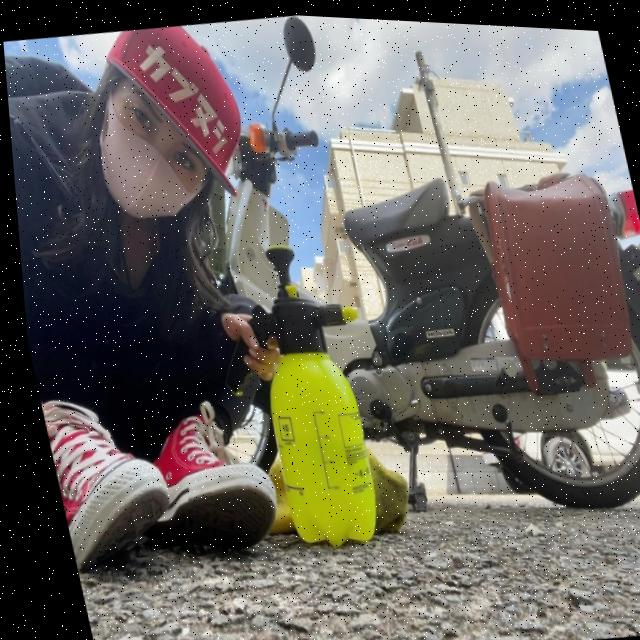illegal_helmet: (63, 13, 271, 243)
